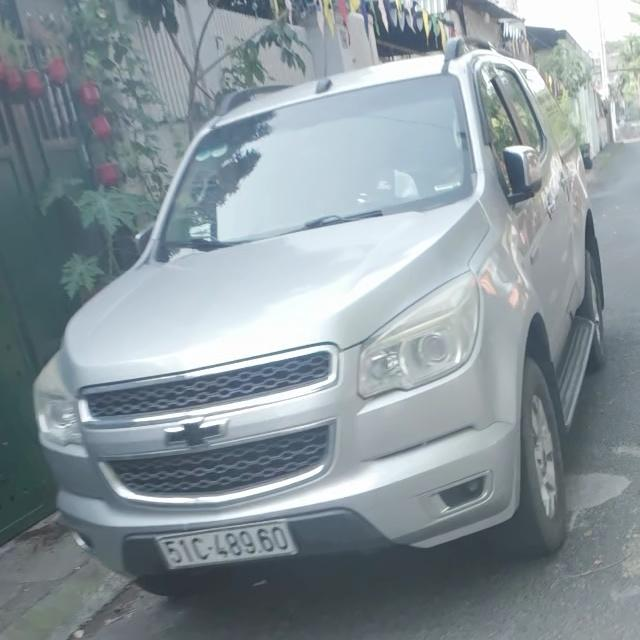license-plate: (158, 523, 297, 568)
